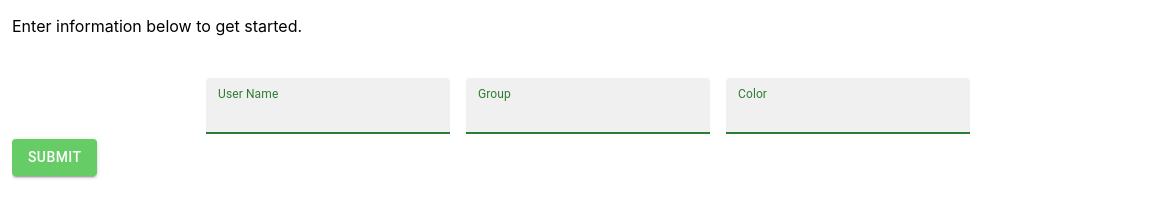
Test: AddUserForm Component › renders error message if all fields are empty
# click button
Click the button "Submit".
click(55, 157)  # box [12, 139, 97, 176]
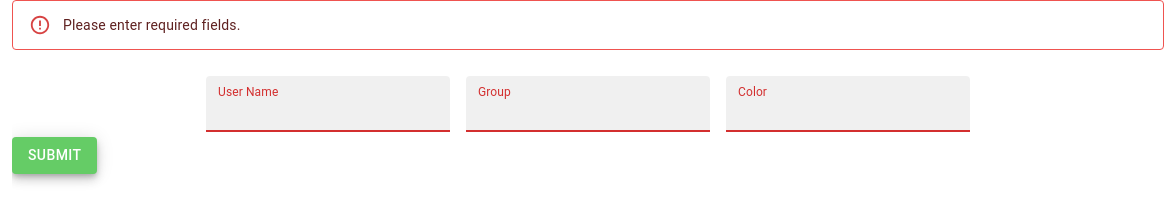
Result: the text "Please enter required fields." is shown at [63, 17, 241, 33]
